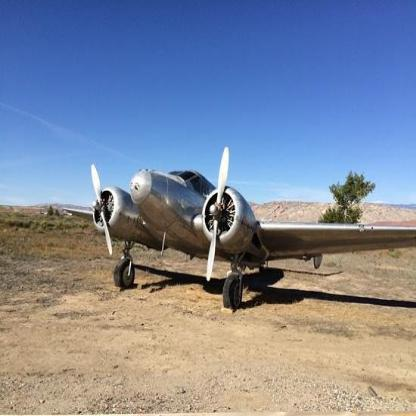CIV_Plane: (75, 142, 416, 310)
